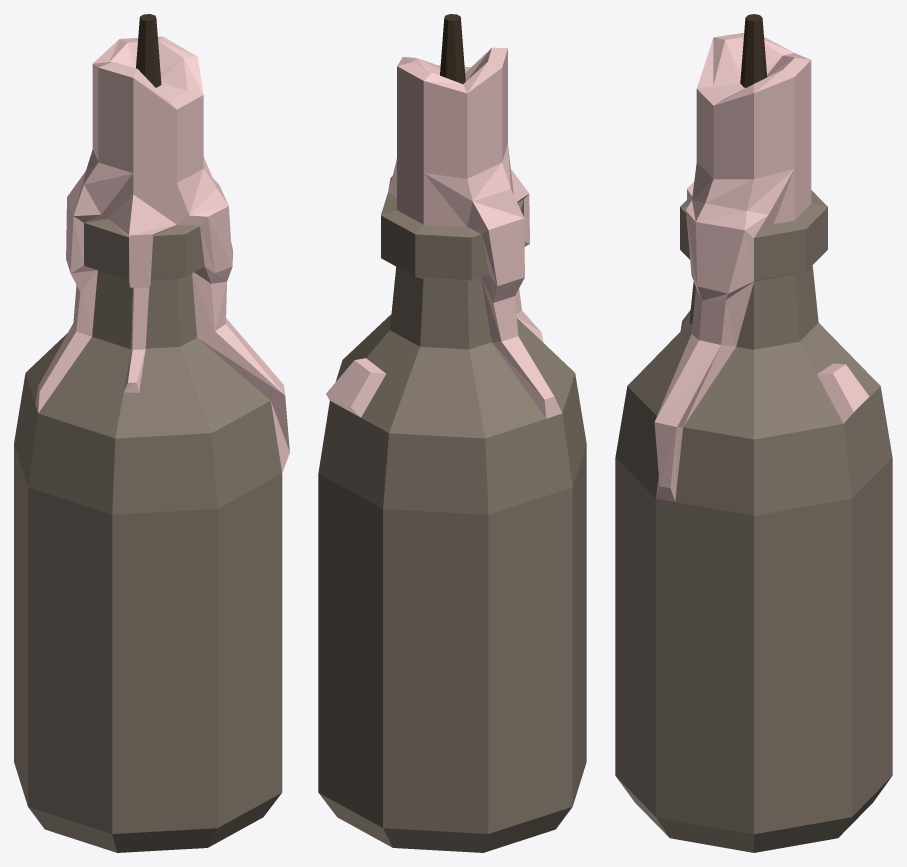
File: SM_Item_Bottle_Candle_01.glb
3 views of the same model, side by side, from view 1: azimuth 30°, elevation 25°; view 2: azimuth 150°, elevation 25°; view 3: azimuth 270°, elevation 25° (orthographic).
Visible parts, largest first — view 1: SM_Item_Bottle_Candle_01_00; view 2: SM_Item_Bottle_Candle_01_00; view 3: SM_Item_Bottle_Candle_01_00.
Part boxes in pixels (<box>): SM_Item_Bottle_Candle_01_00: <box>14,14,289,852</box>; SM_Item_Bottle_Candle_01_00: <box>318,14,586,852</box>; SM_Item_Bottle_Candle_01_00: <box>615,14,892,852</box>.
Bounding box in the file's own units: 0.1286 × 0.4021 × 0.1286.
1 material, 1 textured.
